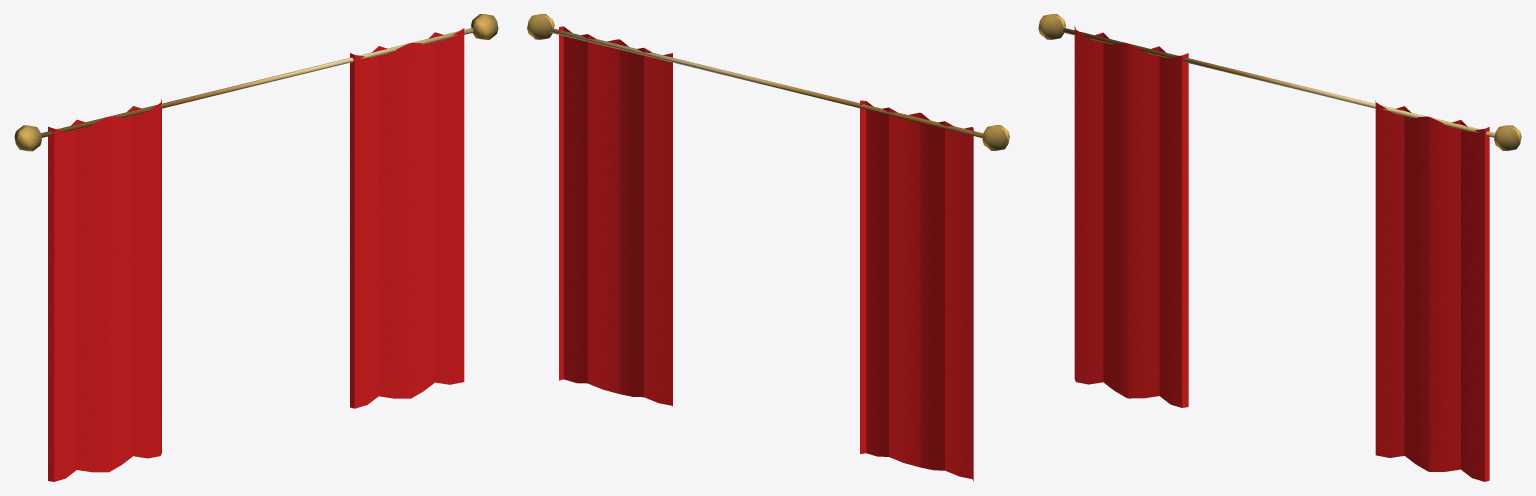
Rendered from Straight_Curtains_13.FBX.
3 renders of one model, left to right at view 1: azimuth 30°, elevation 25°; view 2: azimuth 150°, elevation 25°; view 3: azimuth 330°, elevation 25°, orthographic.
Visible parts, largest first — view 1: Straight_Curtain; view 2: Straight_Curtain; view 3: Straight_Curtain.
Boxes of the visible parts, x1,y1,x2,y2 form: Straight_Curtain: (14, 14, 498, 481); Straight_Curtain: (527, 14, 1009, 481); Straight_Curtain: (1038, 14, 1521, 481).
Size of the model in its own units: 582 by 421 by 29.96.
